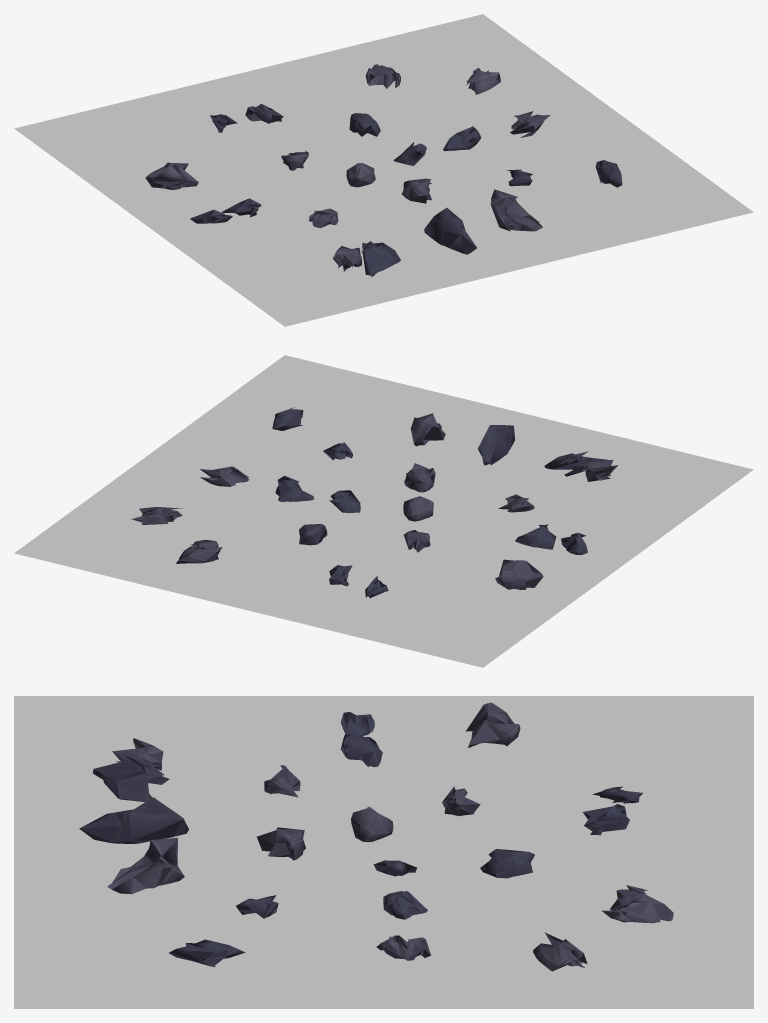
Rendered from SpeedField.fbx.
3 views of the same model, one above another, from view 1: azimuth 30°, elevation 25°; view 2: azimuth 150°, elevation 25°; view 3: azimuth 270°, elevation 25° (orthographic). The views are drawn at different scales.
Visible parts, largest first — view 1: SpeedField; view 2: SpeedField; view 3: SpeedField.
Part boxes in pixels (<box>): SpeedField: <box>14,14,753,326</box>; SpeedField: <box>14,355,753,667</box>; SpeedField: <box>14,696,753,1008</box>.
Size of the model in its own units: 2037 by 220 by 2037.
